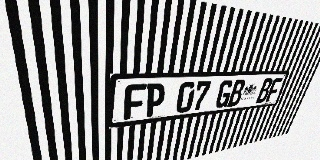0: (175, 81, 196, 113)
7: (191, 81, 212, 111)
B: (227, 79, 246, 107), (255, 78, 274, 103)
F: (124, 84, 147, 120), (265, 78, 283, 102)
G: (214, 80, 234, 109)
P: (144, 83, 166, 117)
